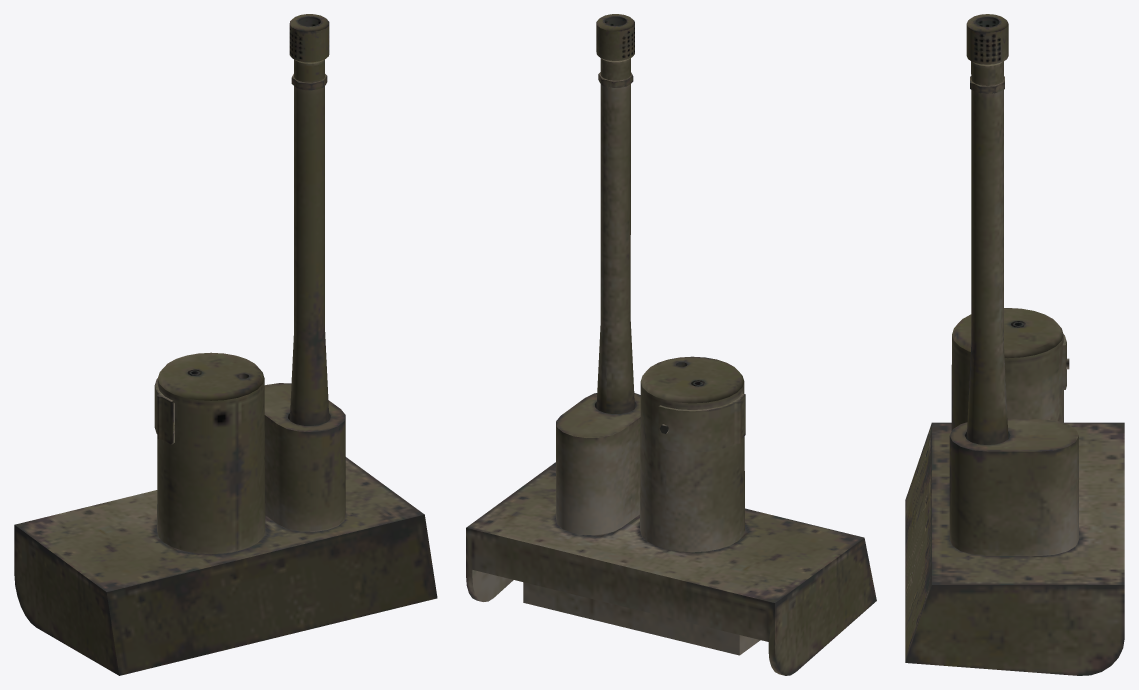
File: Gun_02.glb
3 renders of one model, left to right at view 1: azimuth 30°, elevation 25°; view 2: azimuth 150°, elevation 25°; view 3: azimuth 270°, elevation 25°, orthographic. The views are drawn at different scales.
Visible parts, largest first — view 1: set_0_group_0; view 2: set_0_group_0; view 3: set_0_group_0.
Part boxes in pixels (bbox=[...]): set_0_group_0: bbox=[14, 14, 437, 675]; set_0_group_0: bbox=[466, 14, 876, 675]; set_0_group_0: bbox=[905, 14, 1124, 675].
Bounding box in the file's own units: 0.767 × 1.34 × 0.4384.
Materials: 1 (1 with a texture image).
